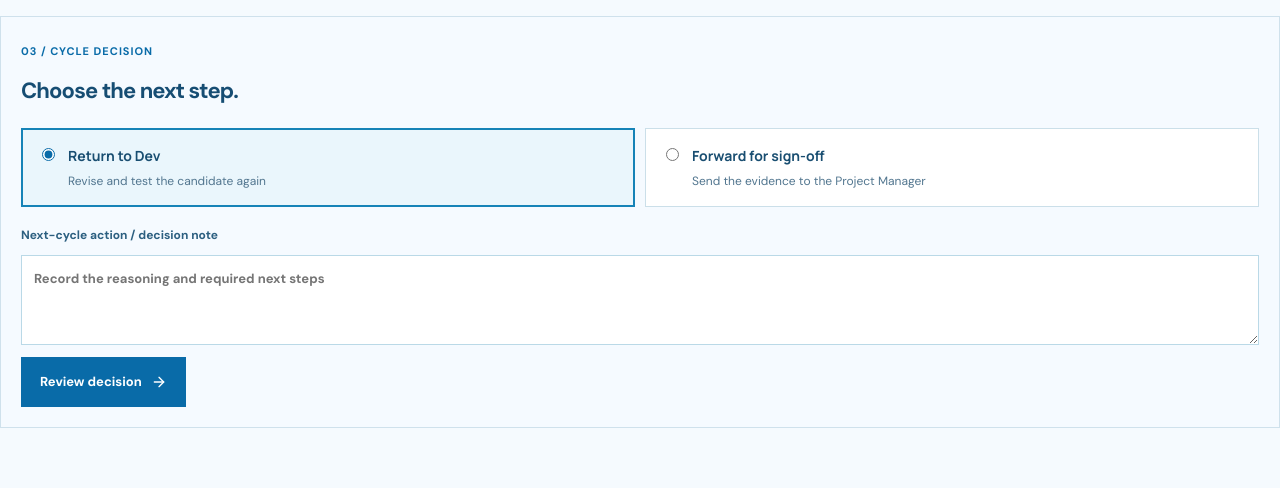
Test: Technical Lead release decision controls › warns when forwarding an overloaded model outcome
Check: the radio button labelled "Return to Dev Revise and test the candidate again" is checked, box 42,148 -> 55,161
Click the radio button labelled "Forward for sign-off" at (672, 154), box 666,148 -> 679,161
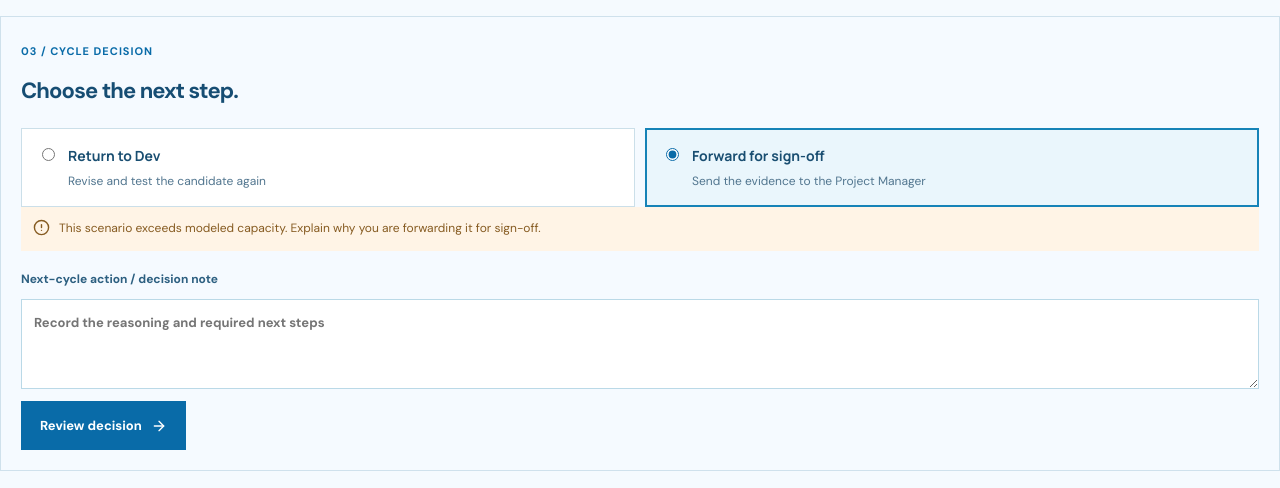
Check: the text "exceeds modeled capacity" is shown, box 59,220 -> 541,236
